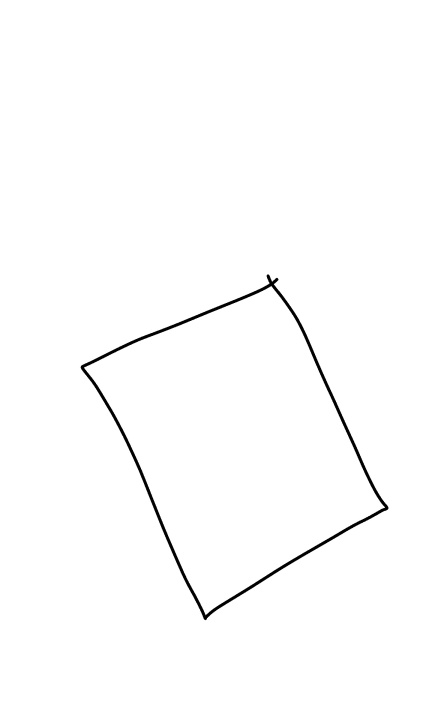Square: (78, 271, 392, 623)
